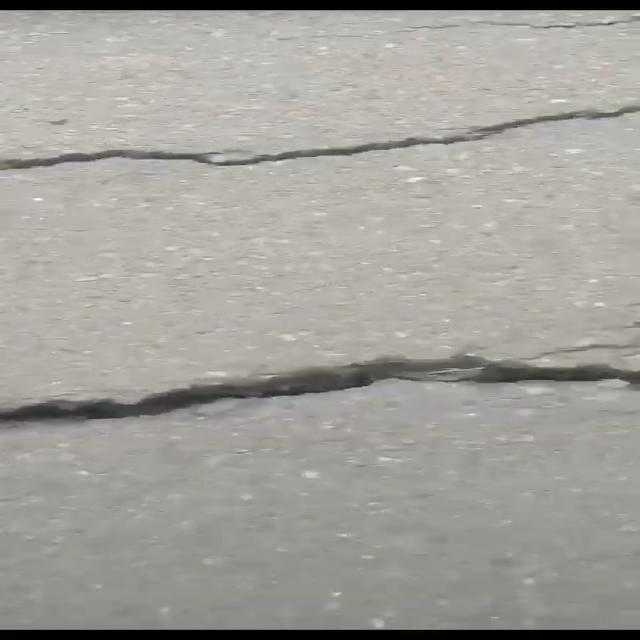Melintang: (0, 340, 640, 444), (0, 94, 640, 183)
